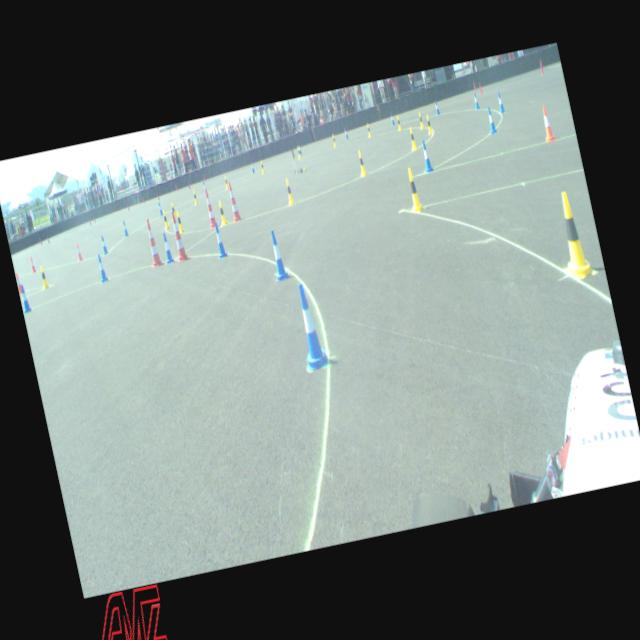blue_cone: (290, 280, 330, 370), (265, 228, 290, 282), (210, 220, 228, 258), (418, 138, 434, 172), (160, 232, 174, 264), (95, 252, 109, 282), (18, 283, 32, 313), (484, 105, 498, 134), (495, 92, 505, 114), (471, 92, 480, 110), (100, 234, 108, 254), (434, 100, 441, 116), (122, 219, 128, 236), (158, 200, 164, 217), (388, 112, 394, 125), (202, 180, 208, 193), (343, 127, 348, 139), (250, 160, 254, 173), (298, 142, 302, 154)
large_orange_cone: (167, 209, 190, 262), (141, 216, 164, 268), (201, 187, 219, 228), (225, 180, 242, 222)
orange_cone: (538, 104, 556, 142), (15, 272, 24, 294), (74, 241, 83, 261), (28, 255, 36, 272)
yellow_cone: (549, 188, 595, 280), (402, 167, 423, 213), (283, 177, 295, 205), (355, 150, 367, 176), (216, 198, 228, 224), (38, 264, 49, 288), (407, 126, 418, 150), (174, 208, 184, 232), (424, 112, 433, 134), (161, 209, 169, 229), (416, 110, 424, 128), (170, 200, 178, 218), (395, 115, 402, 131), (192, 189, 198, 205), (331, 132, 337, 147), (222, 174, 228, 189), (366, 123, 372, 137), (258, 159, 264, 173), (295, 146, 301, 159)
